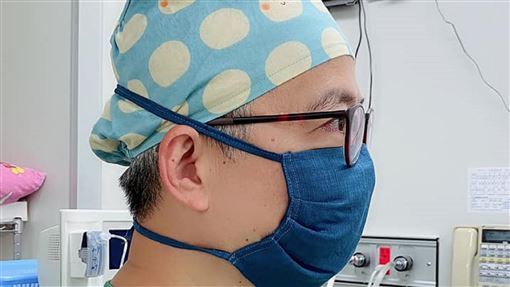Mask: (112, 28, 379, 284)
